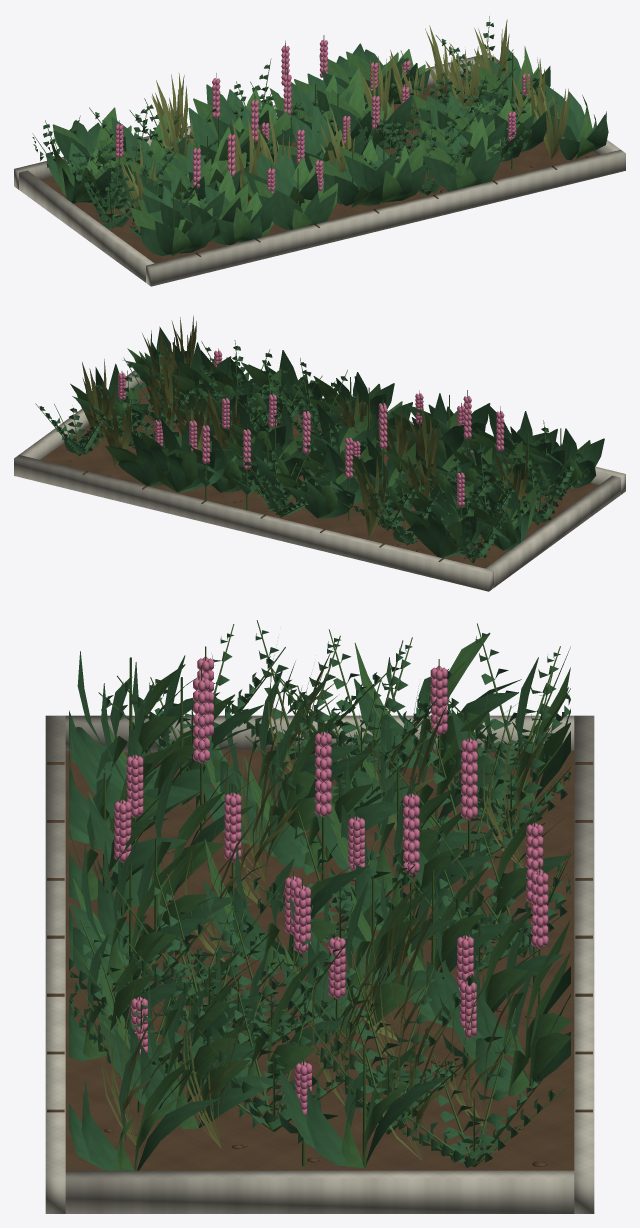
3 renders of one model, top to bottom at view 1: azimuth 30°, elevation 25°; view 2: azimuth 150°, elevation 25°; view 3: azimuth 270°, elevation 25°, orthographic. The views are drawn at different scales.
Parts seen in each view (by area): view 1: VIS_Leaf_Deep, VIS_Leaf_Fresh, VIS_Limestone_Edge, VIS_Grass_Olive, VIS_Mulch, VIS_Petal_Rose, VIS_Dark_Stem; view 2: VIS_Leaf_Deep, VIS_Limestone_Edge, VIS_Leaf_Fresh, VIS_Grass_Olive, VIS_Mulch, VIS_Dark_Stem, VIS_Petal_Rose; view 3: VIS_Leaf_Deep, VIS_Mulch, VIS_Leaf_Fresh, VIS_Limestone_Edge, VIS_Dark_Stem, VIS_Grass_Olive, VIS_Petal_Rose.
Part boxes in pixels (x1,y1,x2,y2): VIS_Leaf_Deep: [32, 22, 608, 256]; VIS_Leaf_Fresh: [50, 46, 596, 256]; VIS_Limestone_Edge: [14, 53, 625, 286]; VIS_Grass_Olive: [120, 19, 568, 210]; VIS_Mulch: [41, 78, 597, 263]; VIS_Petal_Rose: [115, 39, 530, 193]; VIS_Dark_Stem: [32, 16, 541, 230]; VIS_Leaf_Deep: [39, 328, 604, 558]; VIS_Limestone_Edge: [14, 370, 625, 591]; VIS_Leaf_Fresh: [70, 348, 590, 557]; VIS_Grass_Olive: [80, 315, 527, 538]; VIS_Mulch: [41, 386, 598, 568]; VIS_Dark_Stem: [35, 340, 588, 563]; VIS_Petal_Rose: [117, 350, 504, 506]; VIS_Leaf_Deep: [69, 630, 570, 1170]; VIS_Mulch: [47, 749, 592, 1170]; VIS_Leaf_Fresh: [69, 632, 570, 1170]; VIS_Limestone_Edge: [45, 715, 594, 1213]; VIS_Dark_Stem: [69, 620, 570, 1168]; VIS_Grass_Olive: [101, 648, 557, 1160]; VIS_Petal_Rose: [114, 657, 548, 1115].
Size of the model in its own units: 4 by 0.8112 by 2.
Materials: 7 (7 with a texture image).
